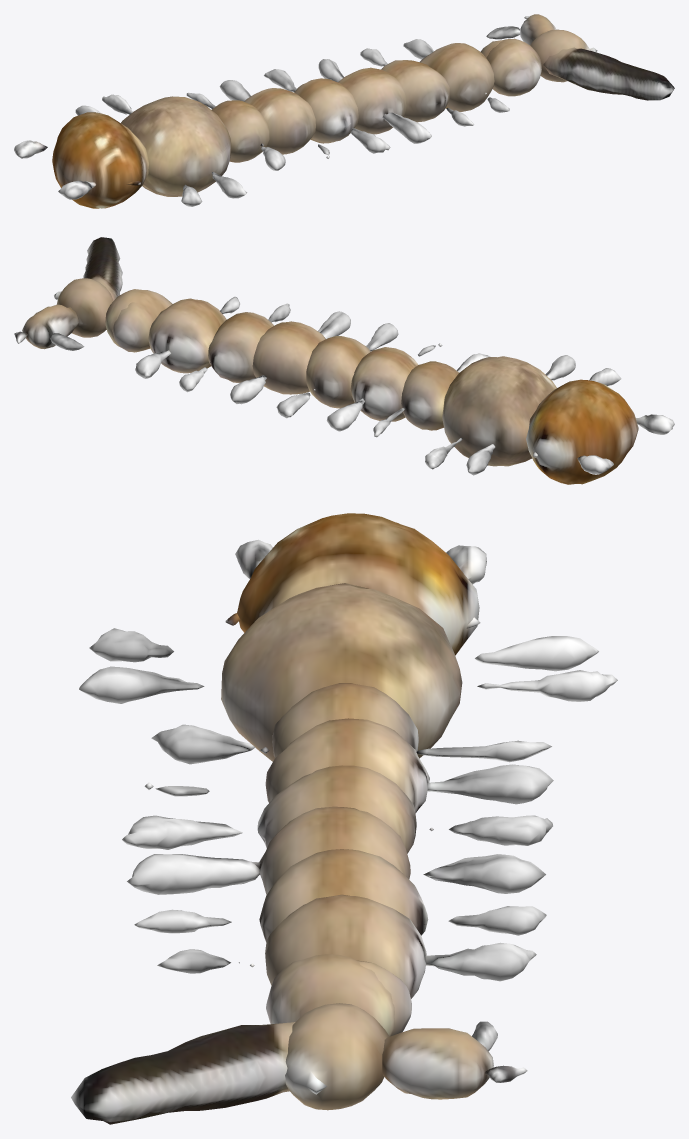
Rendered from Larvae.FBX.
3 renders of one model, top to bottom at view 1: azimuth 30°, elevation 25°; view 2: azimuth 150°, elevation 25°; view 3: azimuth 270°, elevation 25°, orthographic. The views are drawn at different scales.
Parts seen in each view (by area): view 1: default; view 2: default; view 3: default.
Part boxes in pixels (x1,y1,x2,y2): default: (14,14,674,208); default: (14,237,674,484); default: (71,513,617,1124).
Bounding box in the file's own units: 1.15 × 0.1721 × 0.4741.
1 material, 1 textured.
